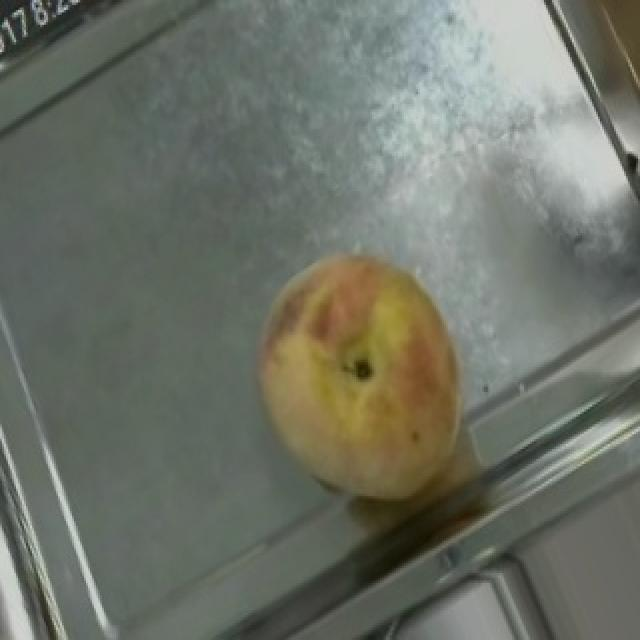Fruit: (212, 213, 524, 541), (562, 0, 640, 134)
